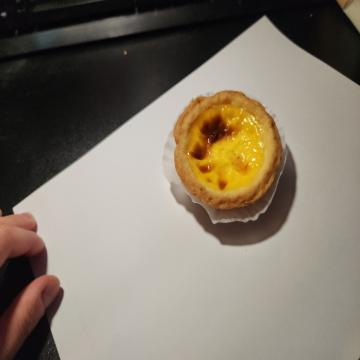EggTart: (172, 88, 283, 212)
